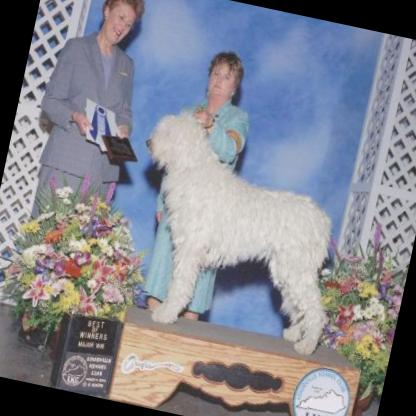komondor: (106, 97, 364, 357)
